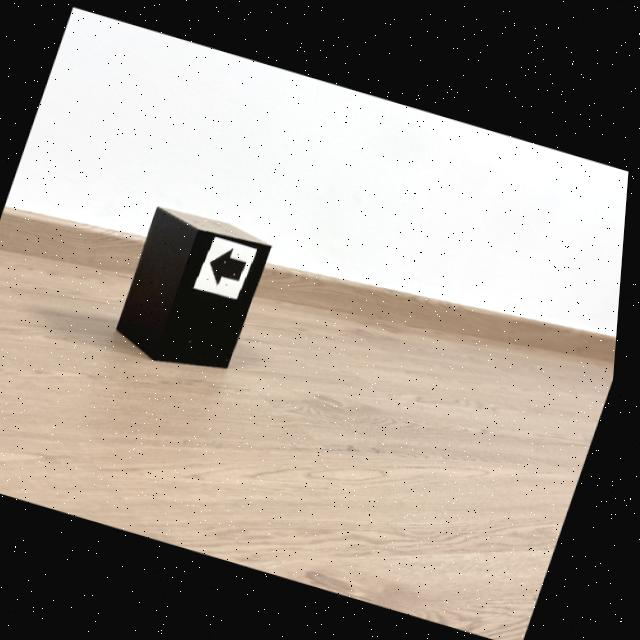LEFT: (213, 247, 249, 284)
